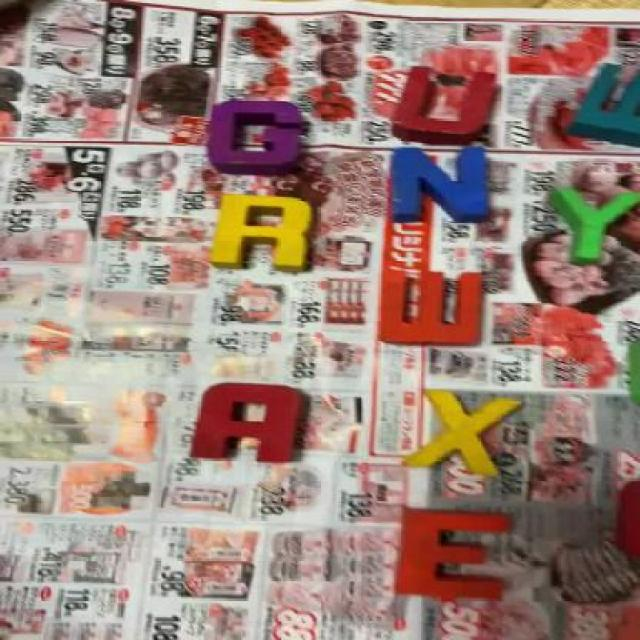A: (192, 381, 300, 461)
E: (398, 508, 512, 597)
G: (205, 98, 304, 172)
N: (386, 146, 488, 223)
R: (208, 193, 317, 267)
U: (384, 70, 501, 138)
W: (382, 270, 487, 344)
X: (414, 390, 512, 473)
Y: (548, 184, 640, 262)
